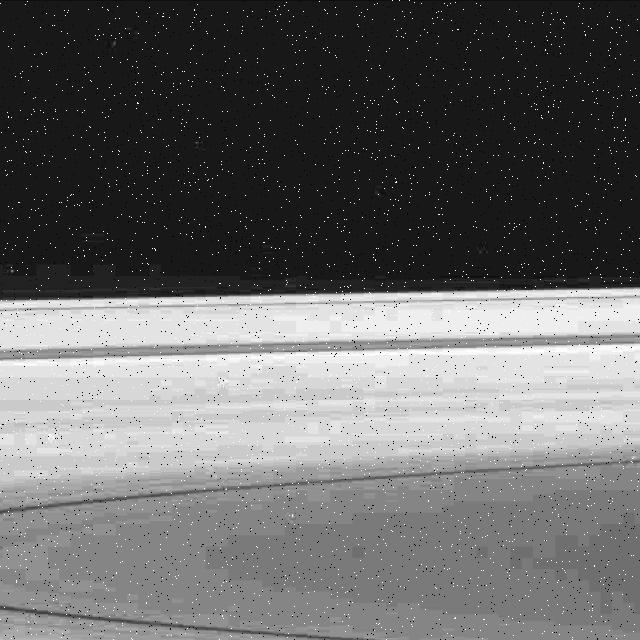Saturn: (0, 284, 640, 640)
